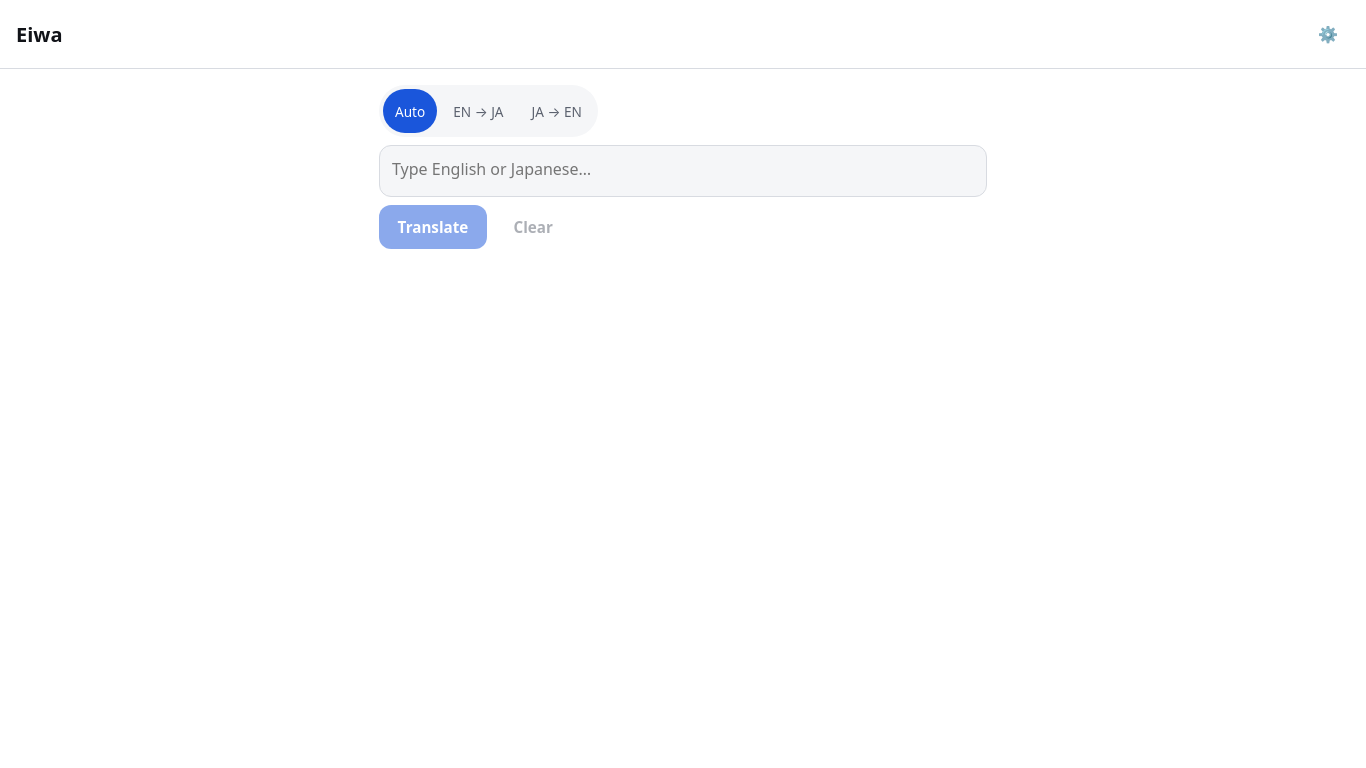
Test: App › opens the settings sheet and shows the local-inference privacy notice
Click the button named "open settings" at (1328,34), box [1306,12,1350,56]
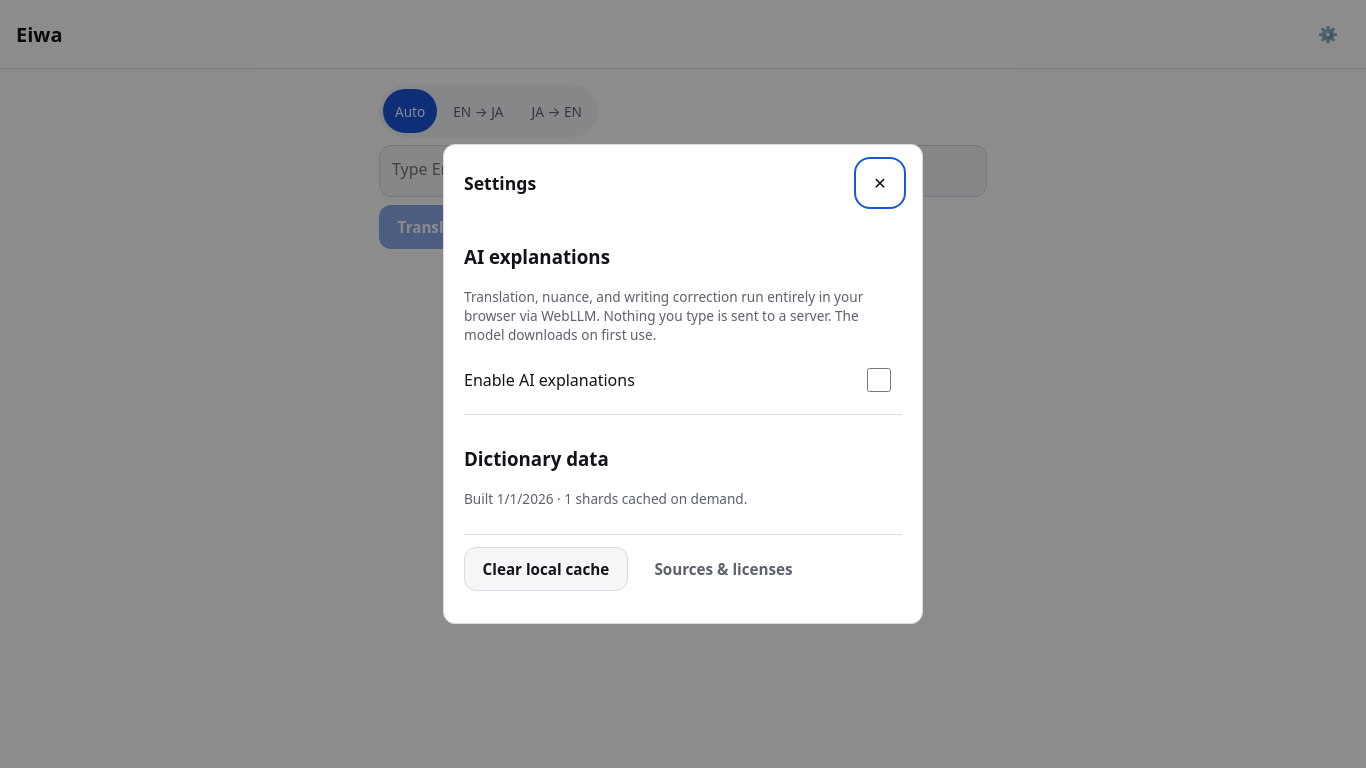
Result: the text "nothing you type is sent to a server" is shown at [464,287,863,344]
